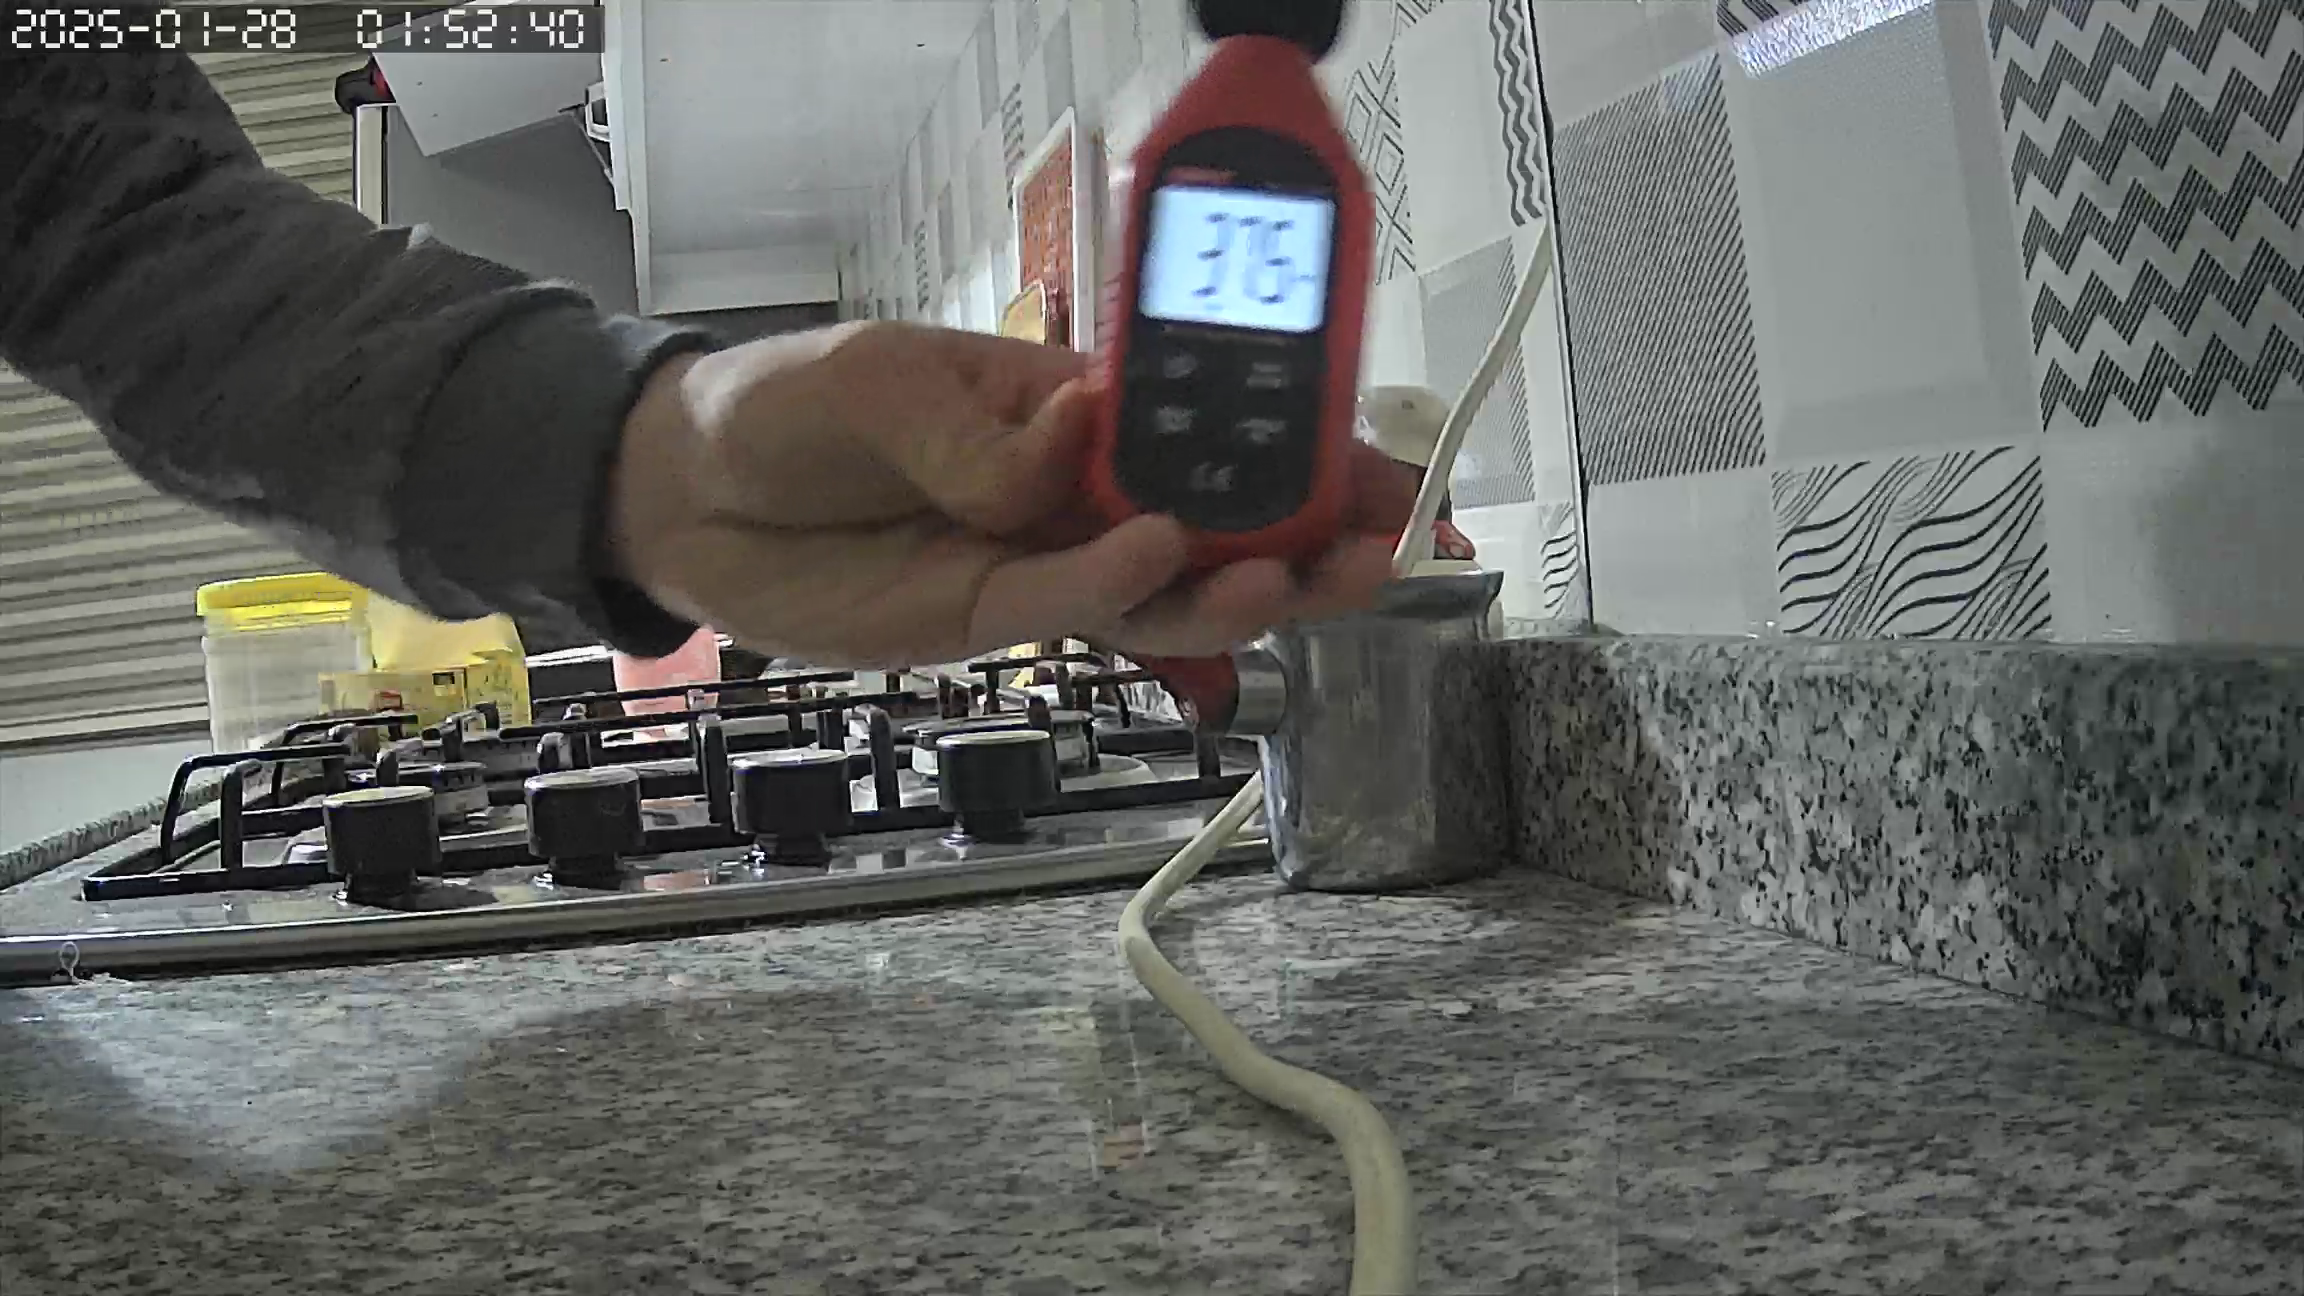screen: (1138, 182, 1329, 334)
